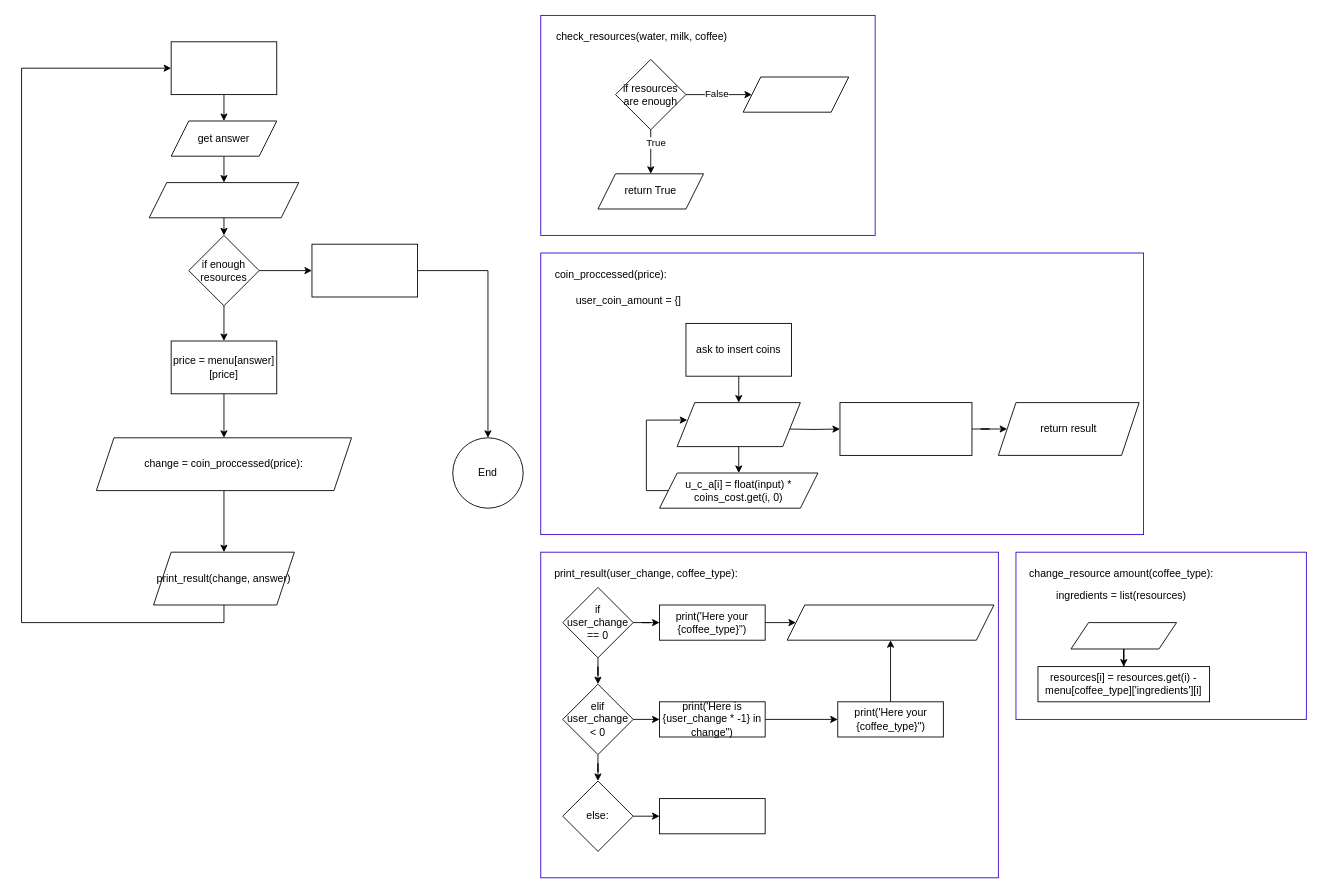
The diagram is 1322 pixels wide and 893 high, and some of its shapes have lost their labels. Each missing label, with the centre of its shape:
ask user what type of coffee he/she wanted: point (223, 68)
change_resource_amount(coffee_type):: point (890, 622)
check resources sufficient check_resources(...): point (223, 200)
for i in resources:: point (1123, 635)
for i in u_c_a:: point (738, 424)
print error message and ask to add lacked resource: point (364, 270)
print('Sorry there is not enough money. Money refunded"): point (712, 816)
result = price - sum(list(u_c_a.values())): point (905, 428)
return False: point (795, 94)
